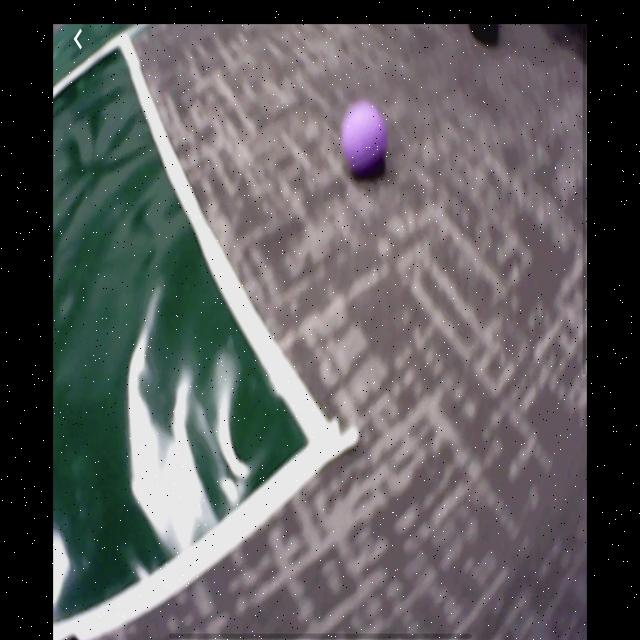ball: (341, 99, 388, 181)
